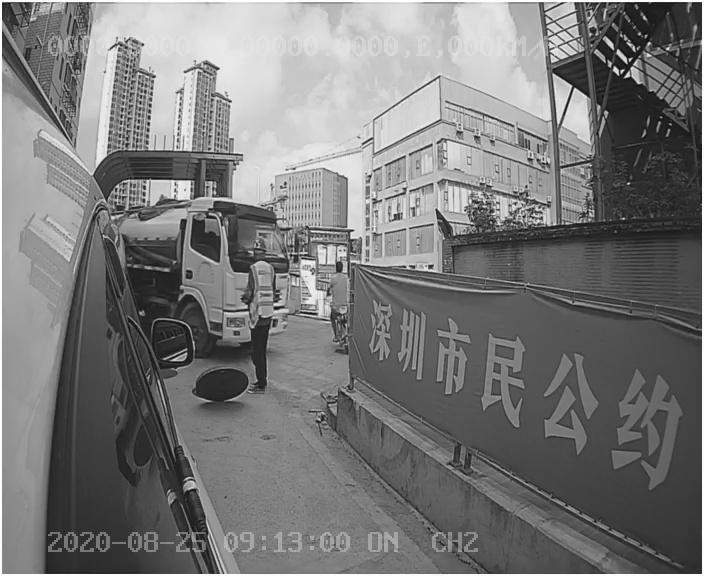person: (241, 239, 280, 398)
